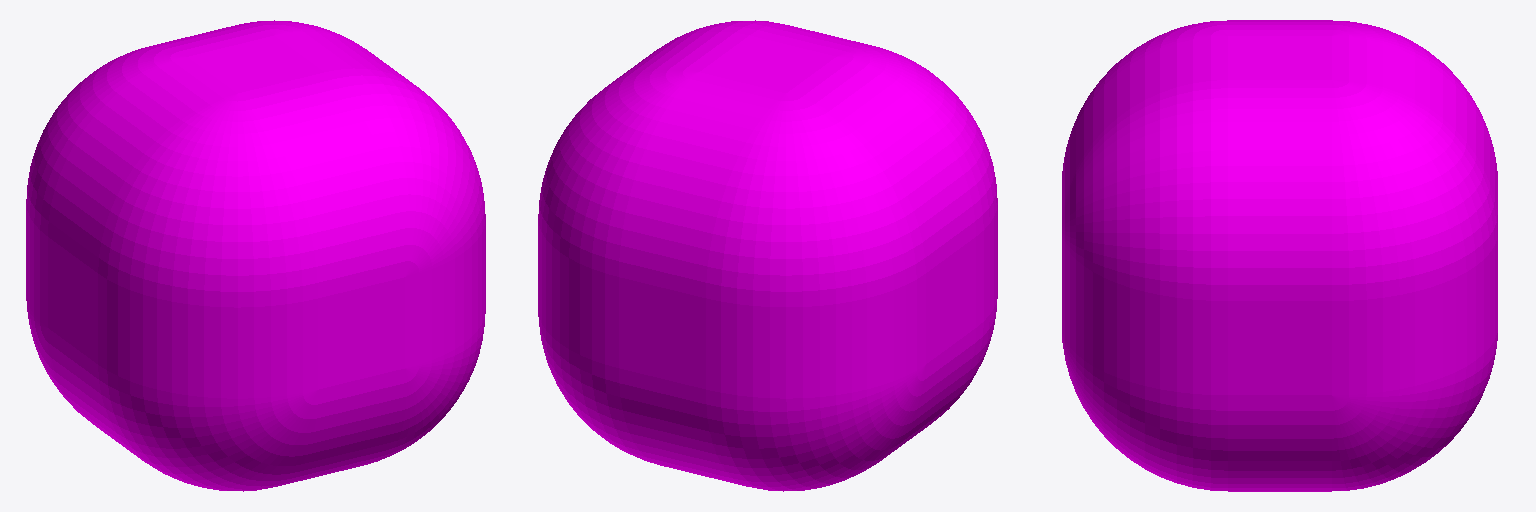
The robot description file, URDF, robot "box2D":
<robot name="box2D">
    
  <link name="baselink">
    <inertial>
      <origin rpy="0 0 0" xyz="0 0 0"/>
       <mass value="0.01"/>
       <inertia ixx="0.001" ixy="0" ixz="0" iyy="0.001" iyz="0" izz="0.001"/>
    </inertial>

    <visual>
      <origin rpy="0 0 0" xyz="0 0 0"/>
      <geometry>
        <mesh filename="mycube.obj" scale="1 1 1"/> 
      </geometry>     
      <material name="white">
        <color rgba="1 0 1 1"/>
      </material>
    </visual>
    
    <collision>
      <origin rpy="0 0 0" xyz="0 0 0.0"/>
      <geometry>
        <mesh filename="mycube.obj" scale="1 1 1"/> 
      </geometry>
    </collision>

  </link>


</robot>

--- What the picture shows (computed from the rendered views, not written in the file) ---
3 views of the same robot in one strip: view 1: azimuth 30°, elevation 25°; view 2: azimuth 150°, elevation 25°; view 3: azimuth 270°, elevation 25° (orthographic).
Model box2D with 1 links and 0 joints (none), rooted at baselink, posed all joints at 0.
Links seen in each view (by area): view 1: baselink; view 2: baselink; view 3: baselink.
Link boxes in pixels (<box>): baselink: <box>26,20,485,491</box>; baselink: <box>538,20,997,491</box>; baselink: <box>1062,20,1497,491</box>.
Bounding box of the posed robot: 0.08 × 0.08 × 0.08 m (x, y, z).
1 mesh visuals loaded from 1 distinct referenced files (1 OBJ).